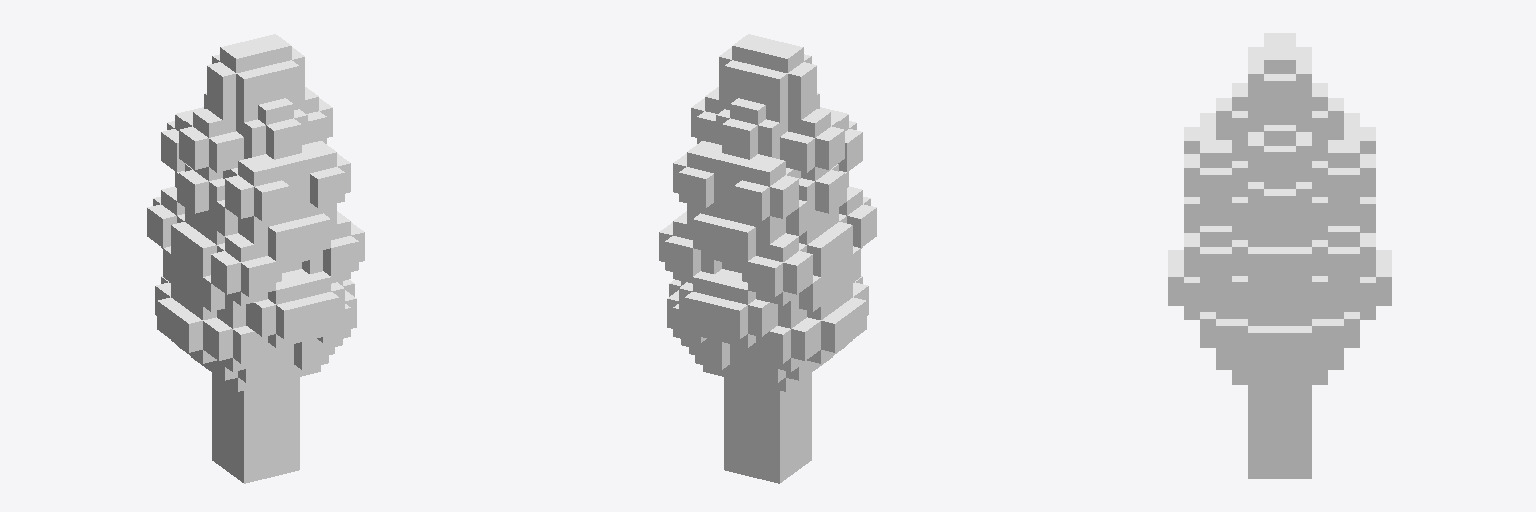
File: TallTree.obj
The picture shows the model from 3 angles: view 1: azimuth 30°, elevation 25°; view 2: azimuth 150°, elevation 25°; view 3: azimuth 270°, elevation 25°; orthographic projection.
Bounding box in the file's own units: 12 × 29 × 14.